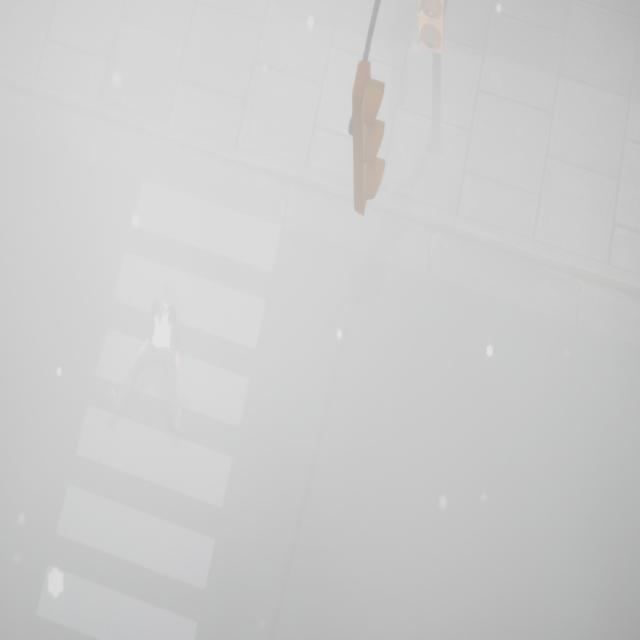Human: (115, 287, 183, 416)
